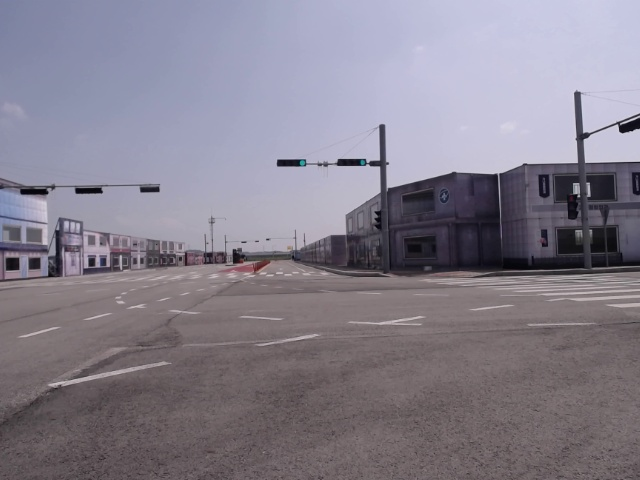straight_green_4: (339, 159, 366, 166), (278, 160, 307, 166)
